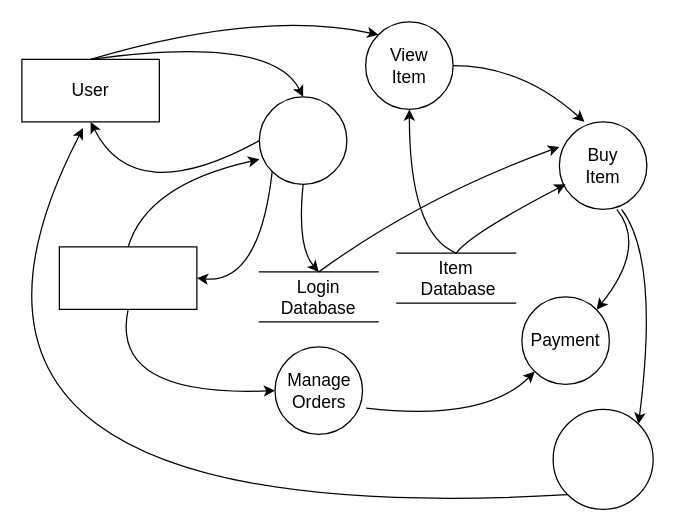
This 675x531 diagram has some shape labels left out. Each missing label, with the box of its shape:
Confirmation: (552, 408, 653, 509)
Login: (258, 96, 347, 184)
Seller: (58, 246, 197, 309)
